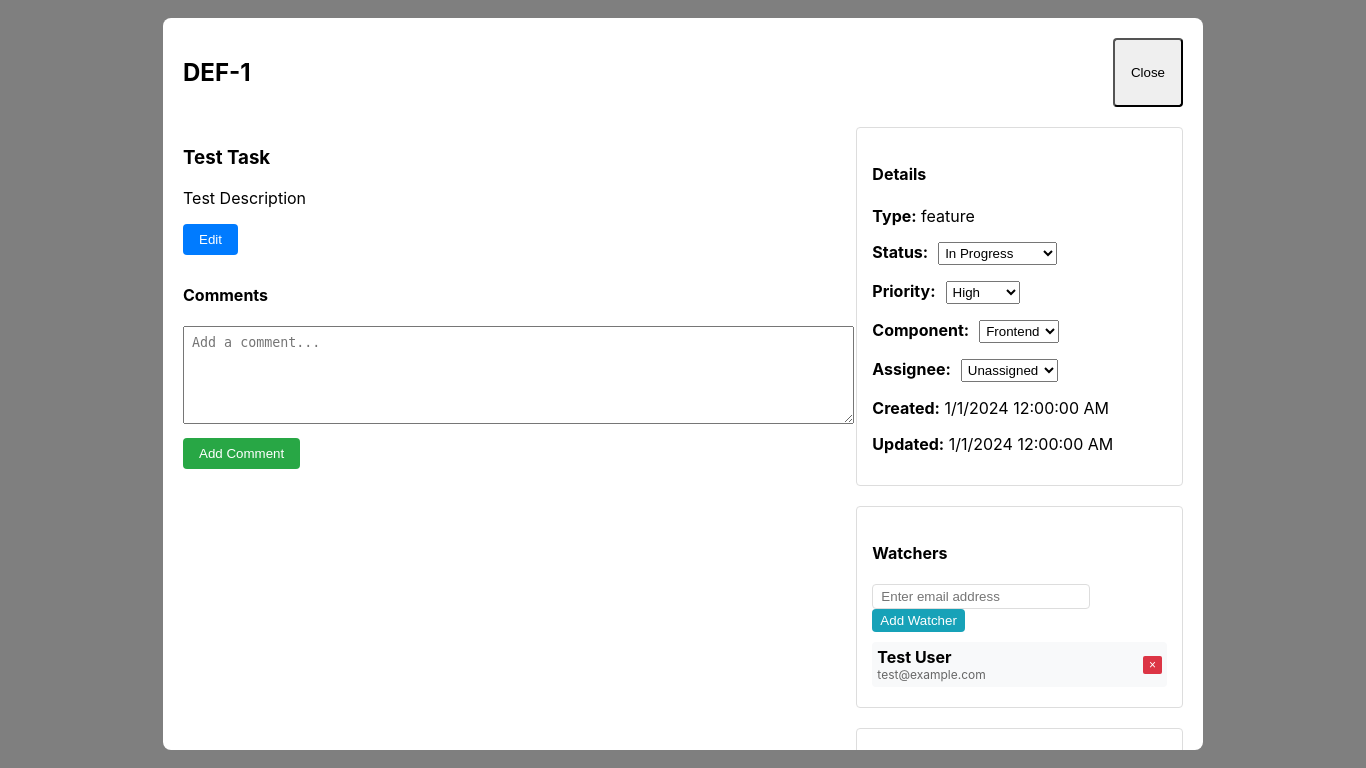
Scenario: TaskDetail Component › clears email error when typing
Click the button "Add Watcher" at x=919, y=621, box left=872, top=609, right=965, bottom=632
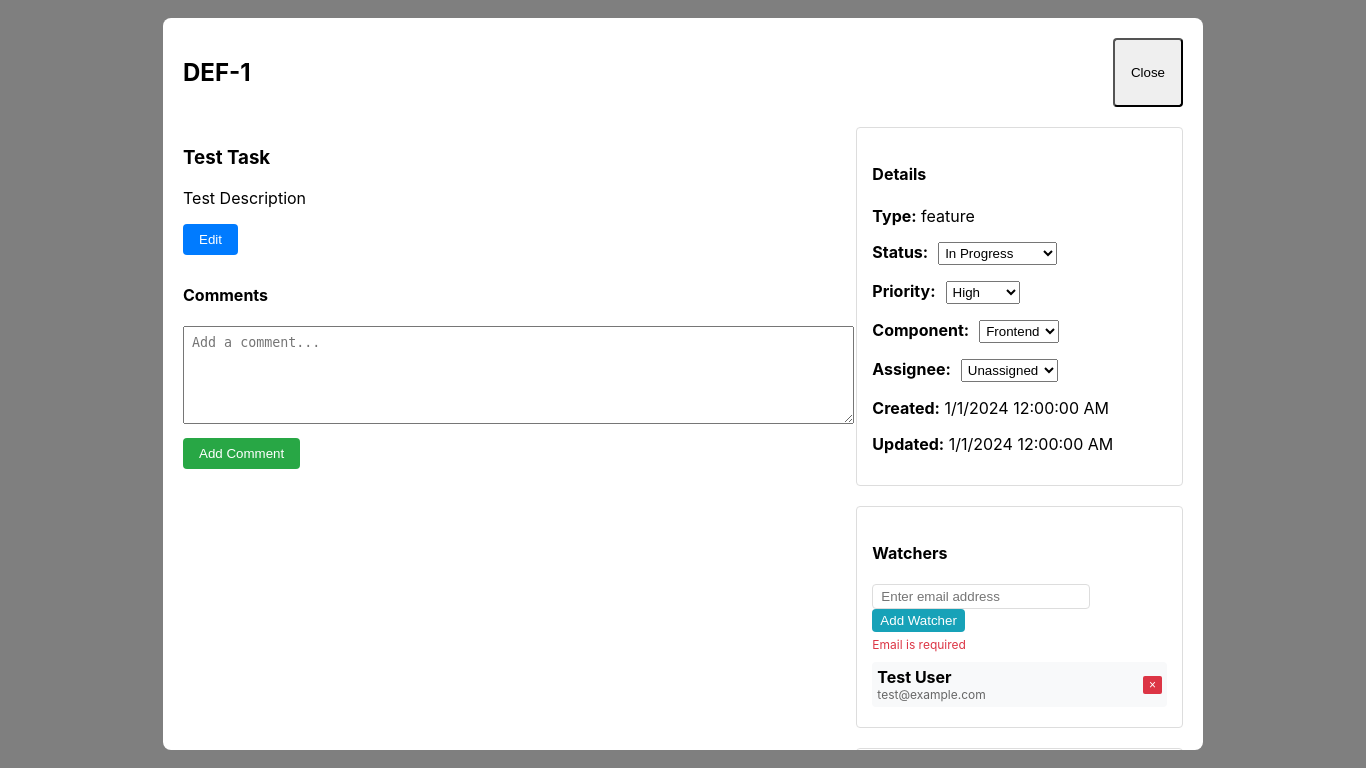
Expected: the text "Email is required" is shown, left=872, top=637, right=966, bottom=652
Type "test@example.com" into the field with placeholder "Enter email address" at x=981, y=597, box left=872, top=584, right=1090, bottom=609
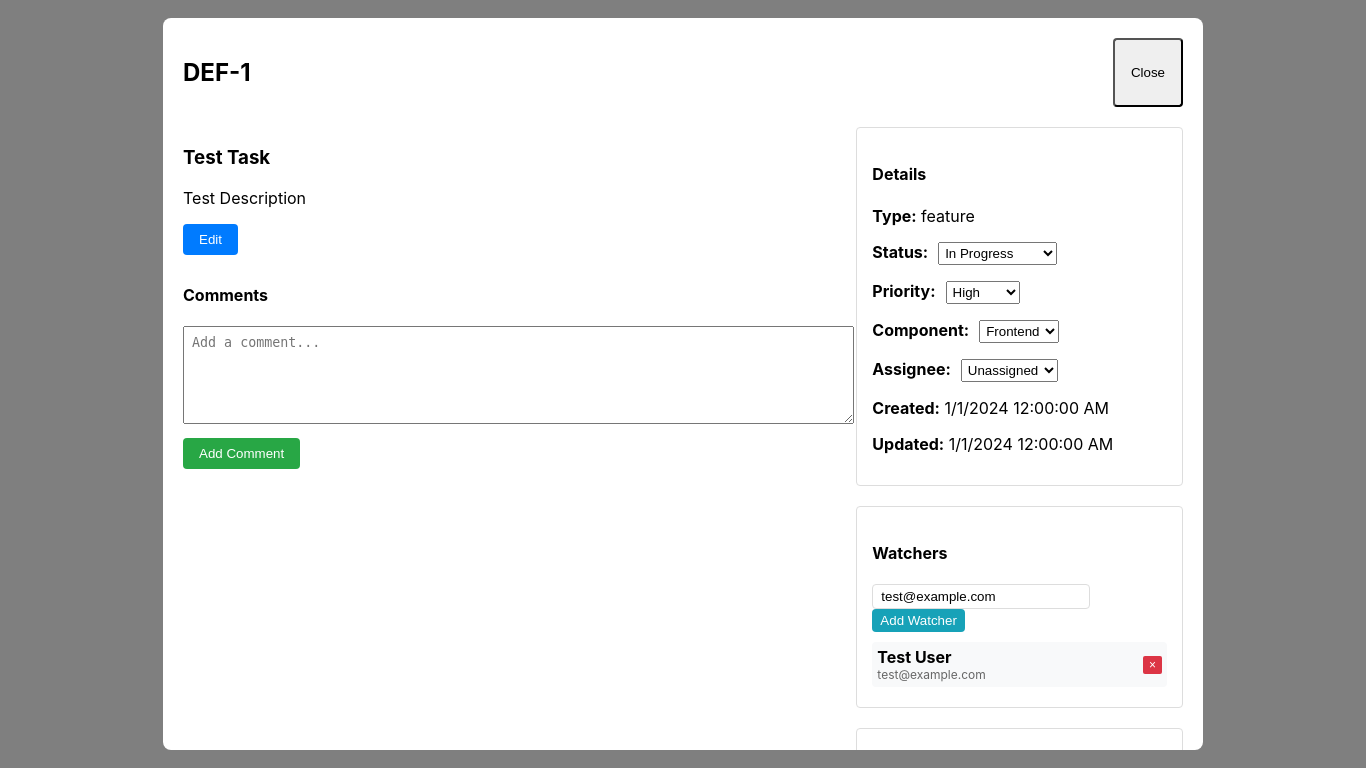
Expected: the text "Email is required" is gone
